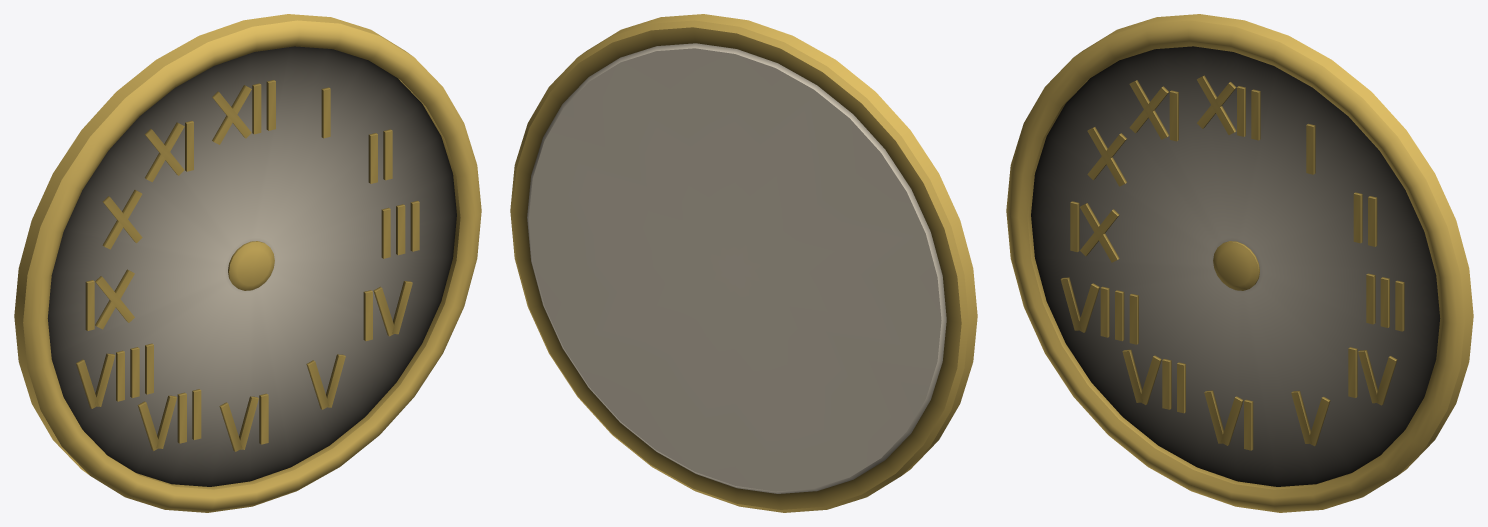
Rendered from clock_face.glb.
3 views of the same model, side by side, from view 1: azimuth 30°, elevation 25°; view 2: azimuth 150°, elevation 25°; view 3: azimuth 330°, elevation 25° (orthographic).
Parts seen in each view (by area): view 1: ClockFace_Disc, ClockFace_Bezel; view 2: ClockFace_Disc, ClockFace_Bezel; view 3: ClockFace_Disc, ClockFace_Bezel.
Boxes of the visible parts, <box> form: ClockFace_Disc: <box>47,46,456,486</box>; ClockFace_Bezel: <box>14,14,481,512</box>; ClockFace_Disc: <box>527,43,946,493</box>; ClockFace_Bezel: <box>510,14,977,512</box>; ClockFace_Disc: <box>1031,46,1440,486</box>; ClockFace_Bezel: <box>1006,14,1473,512</box>.
Bounding box in the file's own units: 0.06 × 0.06 × 0.004.
